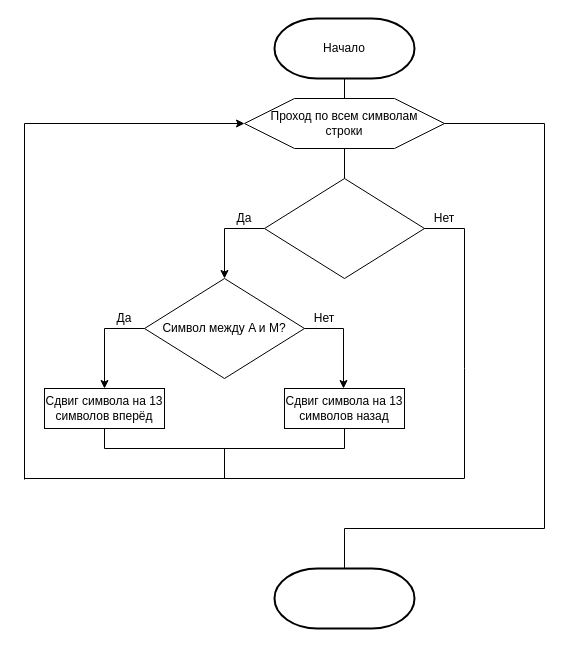
Some shapes in this 563 by 646 pixel diagram are drawn without their labels. Here are the shapes that lost their labels. From the top down, the centre of each, then its label:
[344,228]: Символ принадлежит латинице?
[344,598]: Конец
